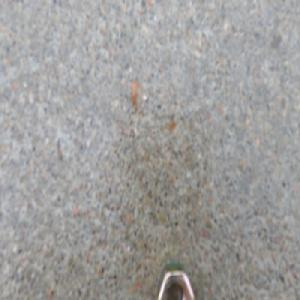Nut: (152, 260, 195, 300)
